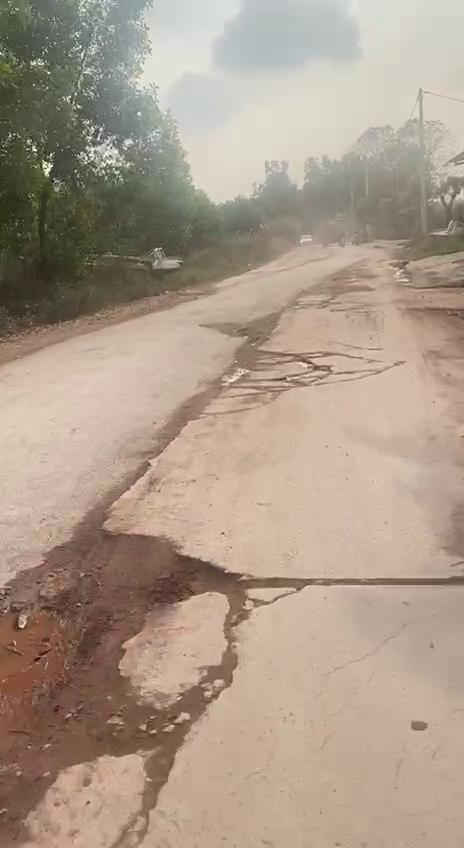pothole: (0, 523, 260, 848), (224, 346, 334, 399)
